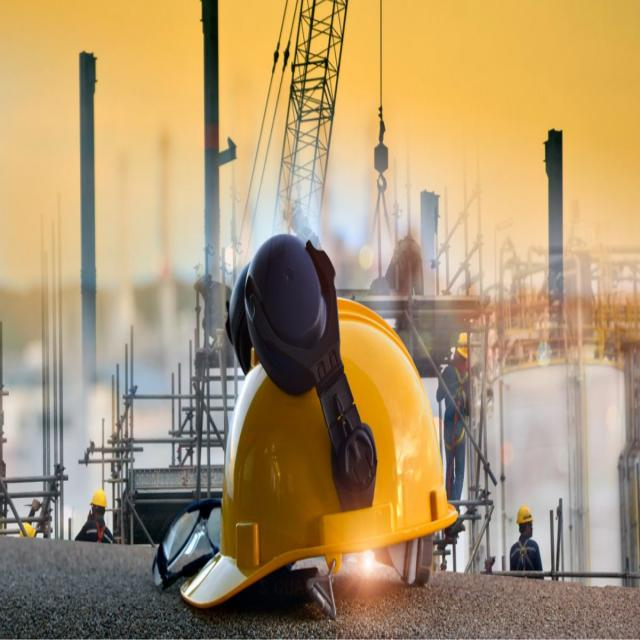Reflective-Jacket: (439, 364, 469, 447), (76, 518, 112, 542)
Safety-Helmet: (190, 294, 462, 598), (90, 483, 109, 509), (455, 328, 470, 358), (516, 502, 534, 525)
